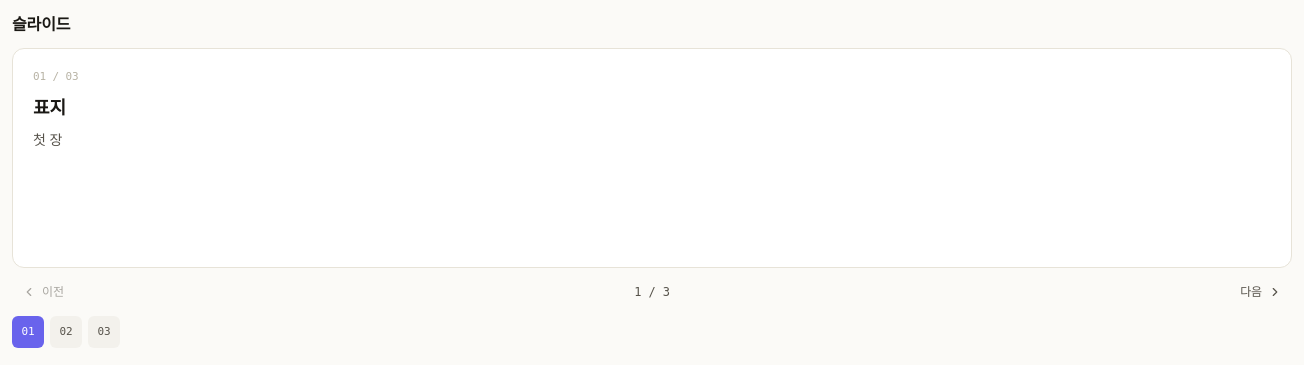
Test case: SlideDeck 슬라이드 이동 › 다음을 누르면 다음 슬라이드로 넘어간다
Click the button "다음" at [1261, 292], box left=1230, top=280, right=1292, bottom=304
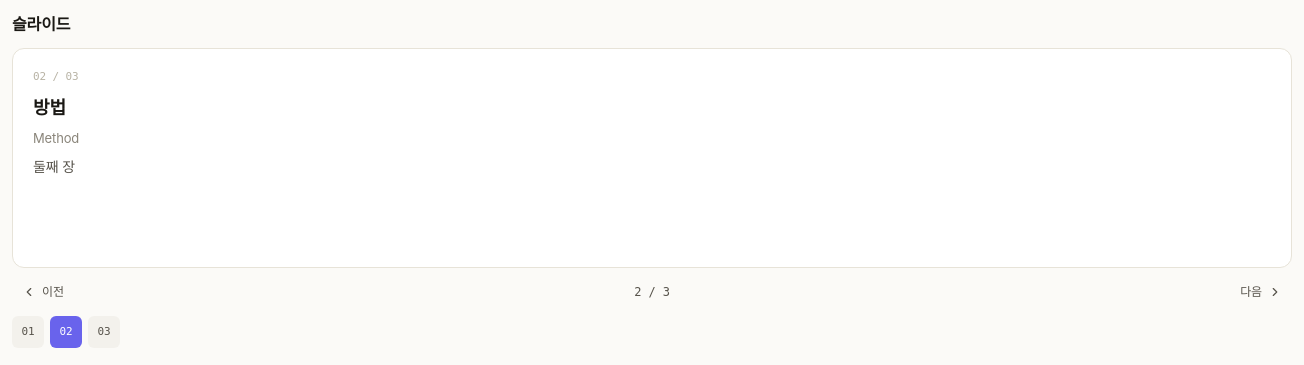
Expected: the text "둘째 장" is shown, left=33, top=158, right=75, bottom=175
